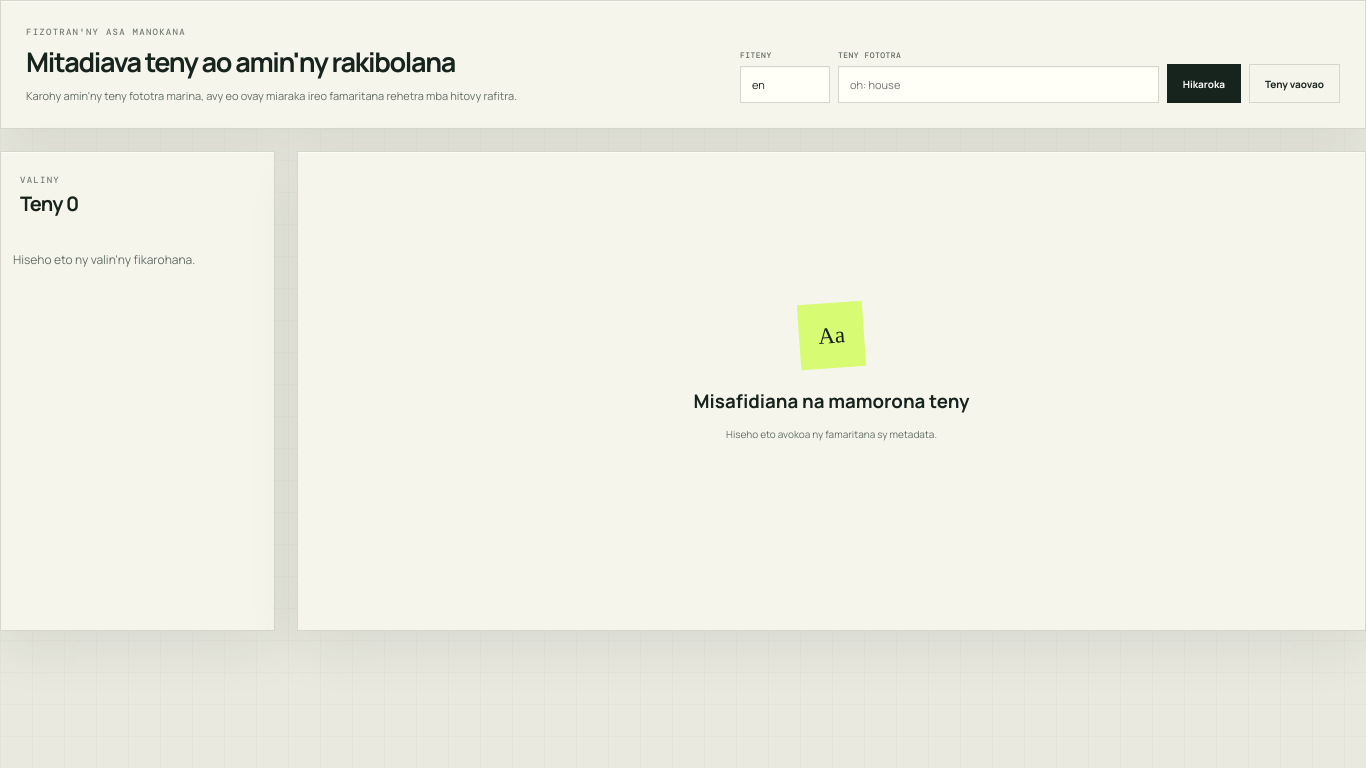
Scenario: DictionaryWorkspace › shows the entries sharing each definition
The image size is (1366, 768).
Type "house" into the field labelled "Teny fototra". click: (998,84)
box: [838,66,1159,103]
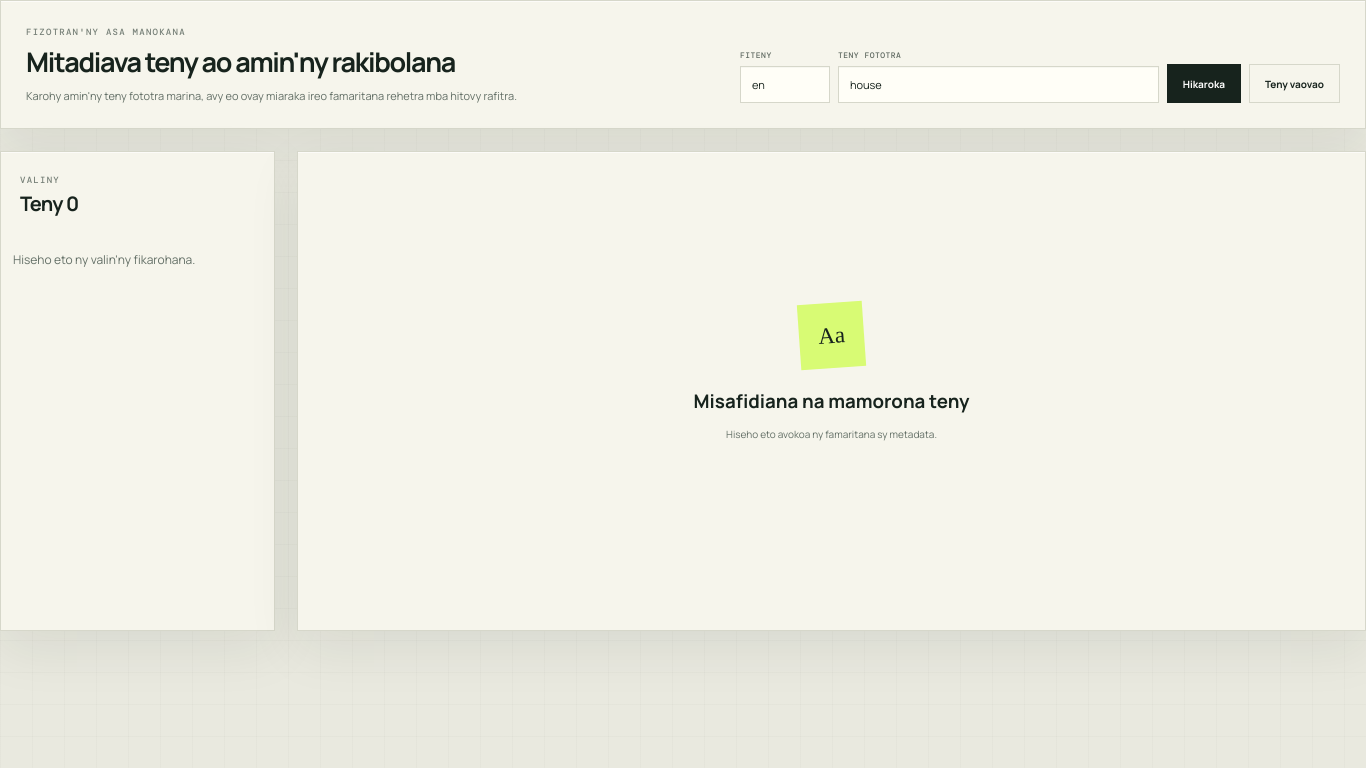
Click the button "Hikaroka". click: (1204,84)
box: [1167,64,1241,103]
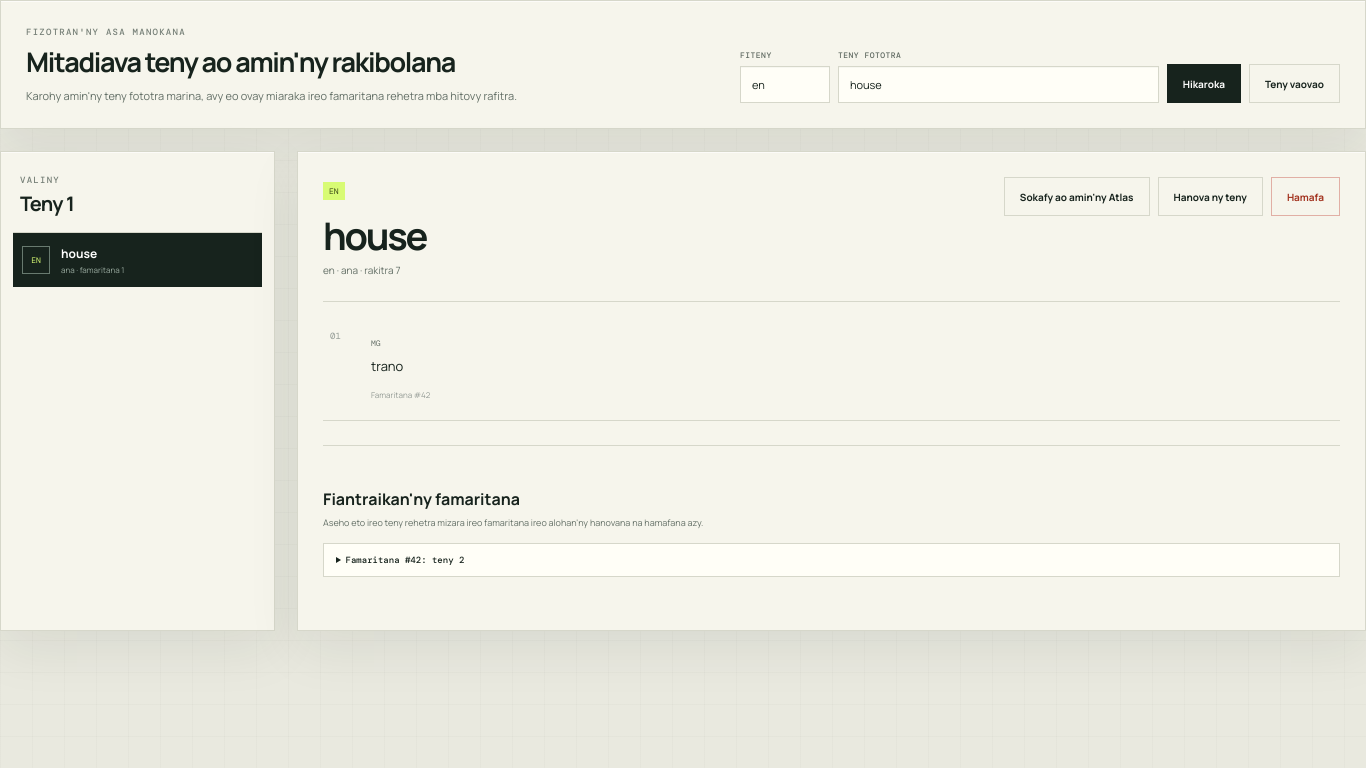
Expected: the heading "Famaritana #42: teny 2" is shown
Click the heading "Famaritana #42: teny 2". click: (405,560)
box: [346,554,464,566]
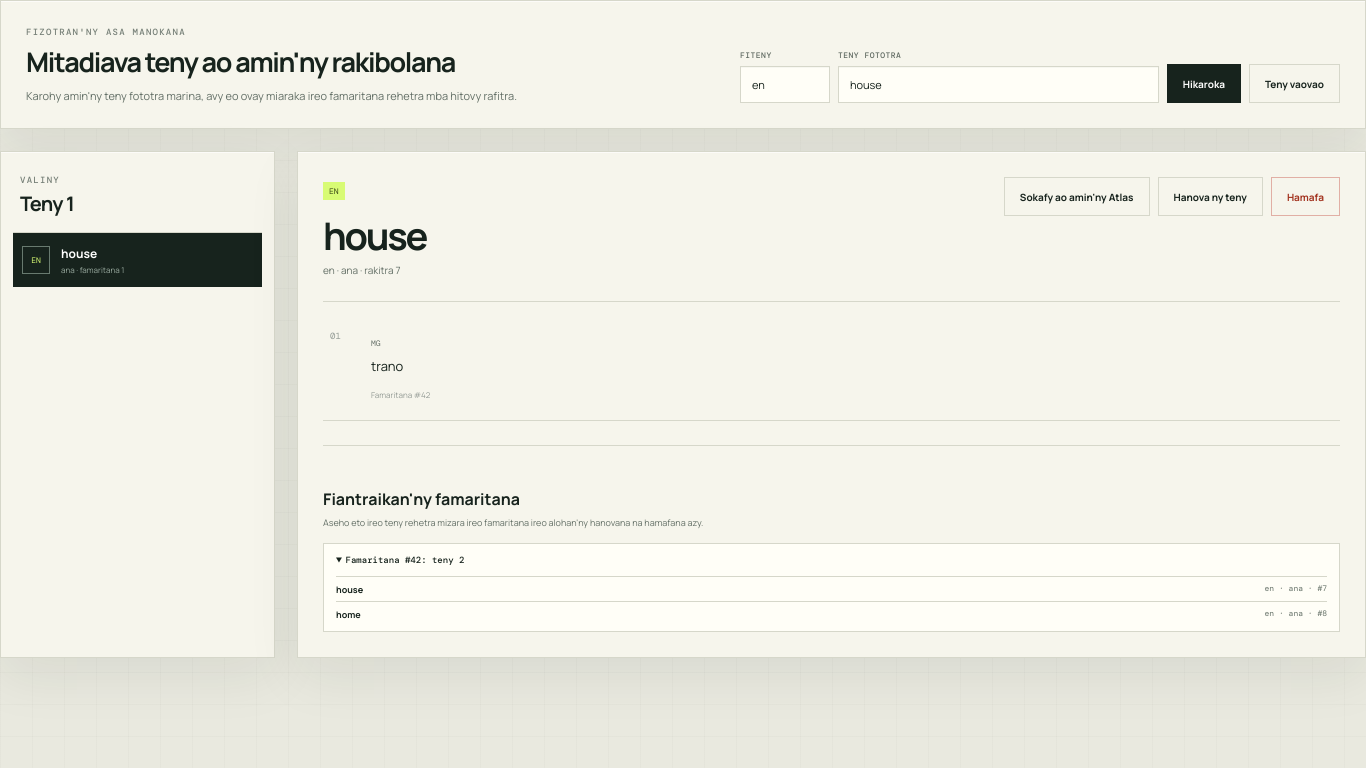
Expected: the text "home" is shown, [336,608,361,621]
